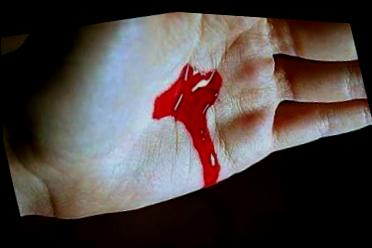Fire: (152, 60, 223, 182)
